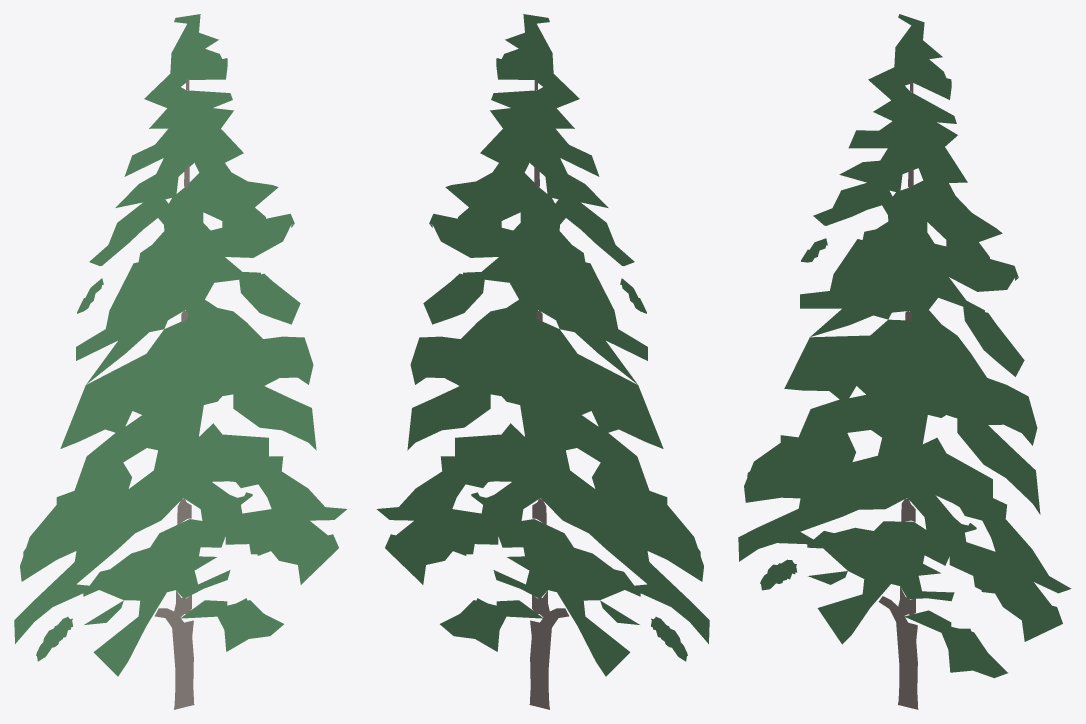
3 views of the same model, side by side, from view 1: azimuth 30°, elevation 25°; view 2: azimuth 150°, elevation 25°; view 3: azimuth 330°, elevation 25° (orthographic).
Visible parts, largest first — view 1: SketchUp, SketchUp.006, SketchUp.003; view 2: SketchUp, SketchUp.006, SketchUp.003; view 3: SketchUp, SketchUp.006, SketchUp.003.
Boxes of the visible parts, x1,y1,x2,y2 form: SketchUp: (14, 14, 347, 676); SketchUp.006: (155, 590, 194, 709); SketchUp.003: (36, 617, 72, 661); SketchUp: (376, 14, 709, 676); SketchUp.006: (529, 590, 568, 709); SketchUp.003: (651, 617, 687, 661); SketchUp: (738, 14, 1071, 678); SketchUp.006: (878, 587, 918, 709); SketchUp.003: (760, 559, 797, 590).
Size of the model in its own units: 6.1 by 0 by 12.1.
